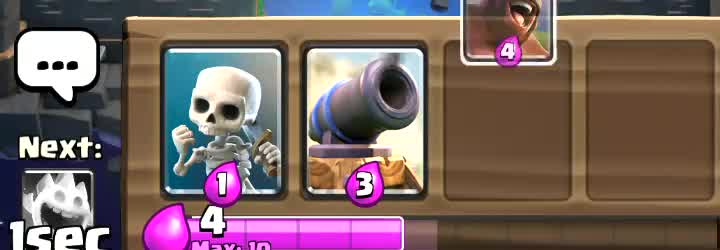cannon: (314, 50, 428, 194)
hog-rider: (463, 2, 553, 64)
log: (466, 0, 553, 65)
